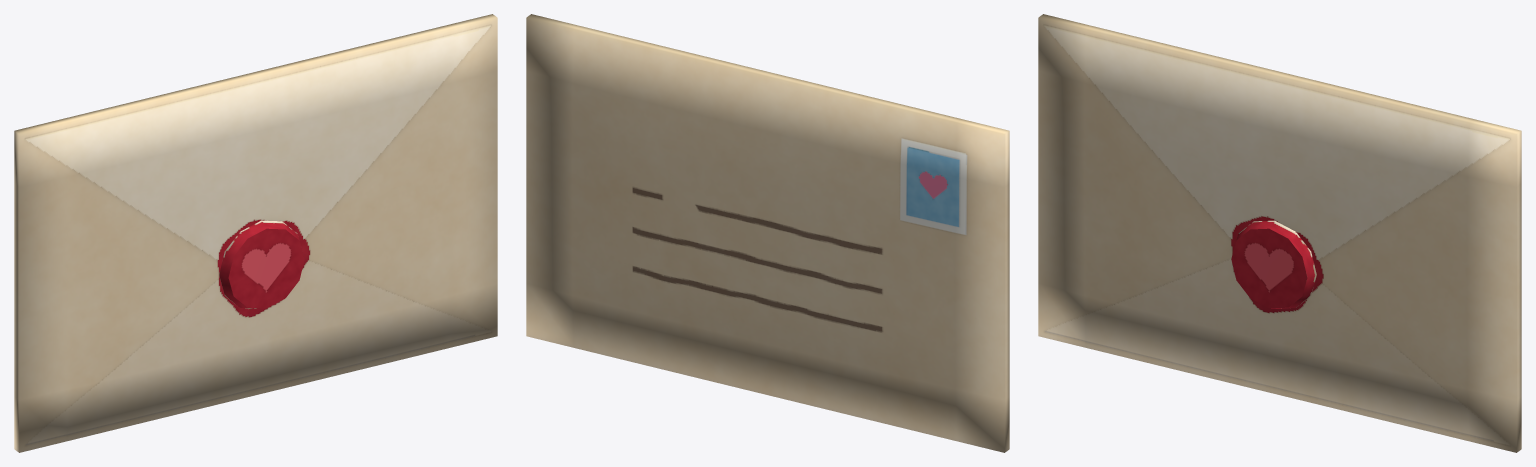
The model's file is letter.glb.
The picture shows the model from 3 angles, left to right: view 1: azimuth 30°, elevation 25°; view 2: azimuth 150°, elevation 25°; view 3: azimuth 330°, elevation 25°; orthographic projection.
Visible parts, largest first — view 1: letter; view 2: letter; view 3: letter.
Boxes of the visible parts, left/top/right/bottom form: letter: left=14, top=14, right=497, bottom=452; letter: left=526, top=14, right=1009, bottom=452; letter: left=1038, top=14, right=1521, bottom=452.
Bounding box in the file's own units: 0.22 × 0.14 × 0.0126.
1 material, 1 textured.
